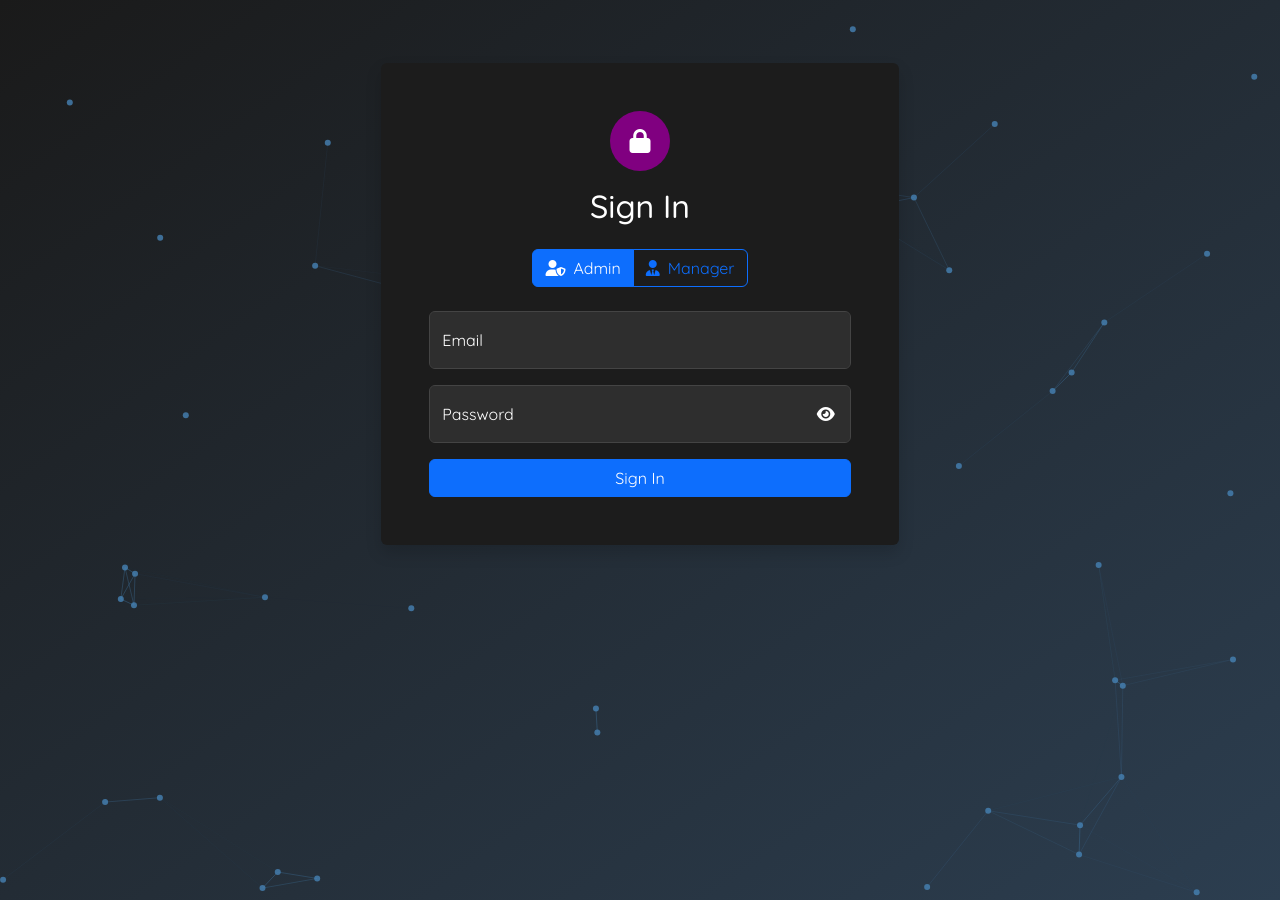
Test: SignInForm integration tests › shows validation error for empty fields
This screenshot has width=1280, height=900.
Click the button with test id "sign-in-button".
click(640, 478)  # box [429,459,851,497]
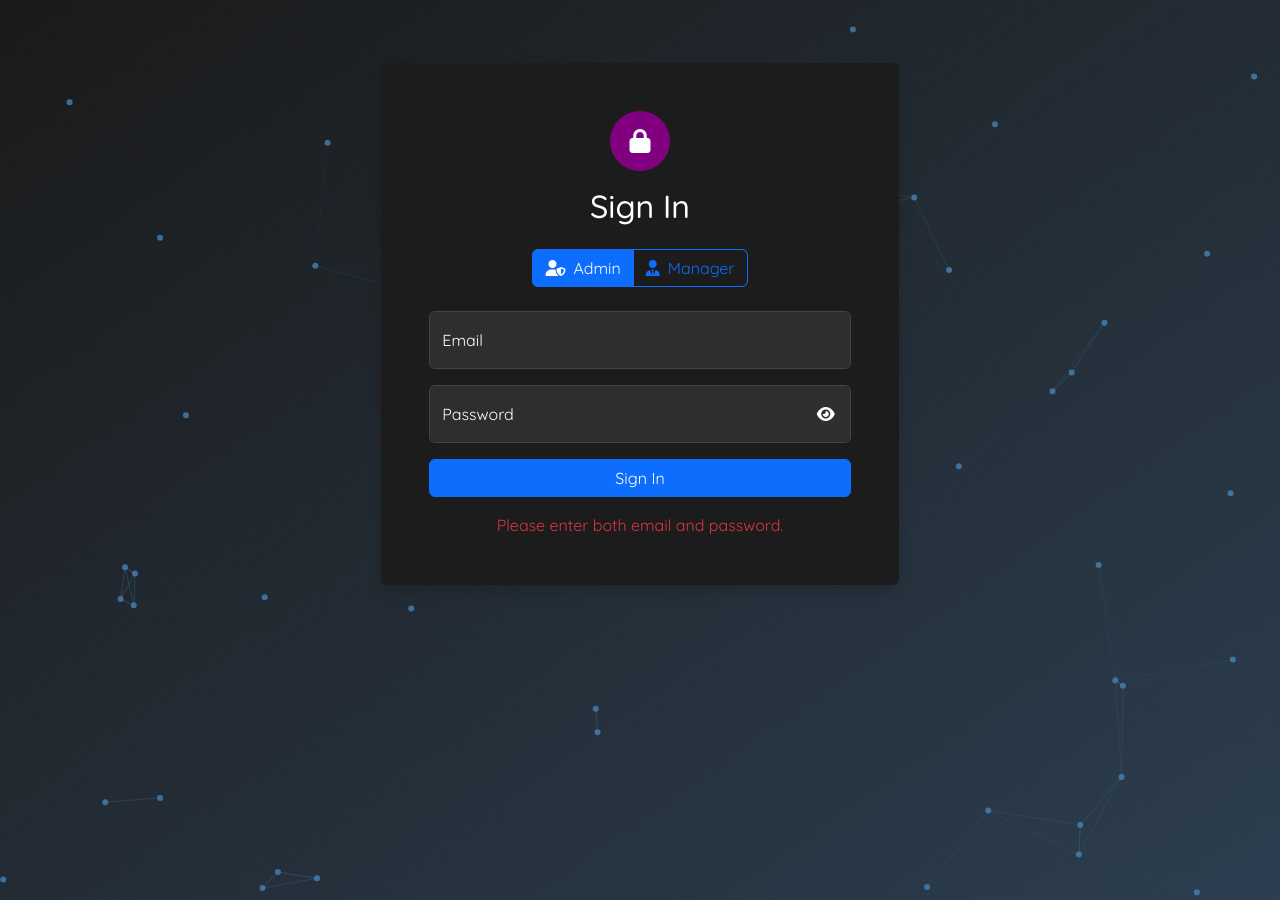
Expected: the text with test id "form-error" reads "Please enter both email and password.", [497,515,783,535]
